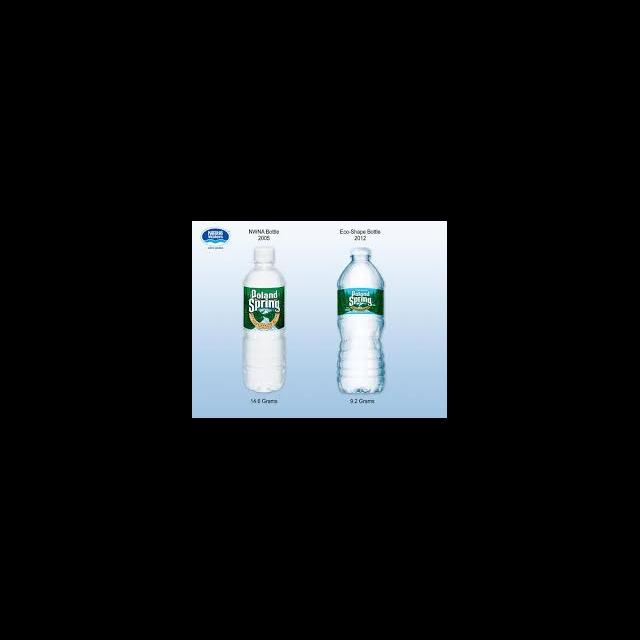plastic: (336, 245, 384, 394), (242, 245, 284, 392), (253, 246, 274, 262), (349, 246, 372, 258)
